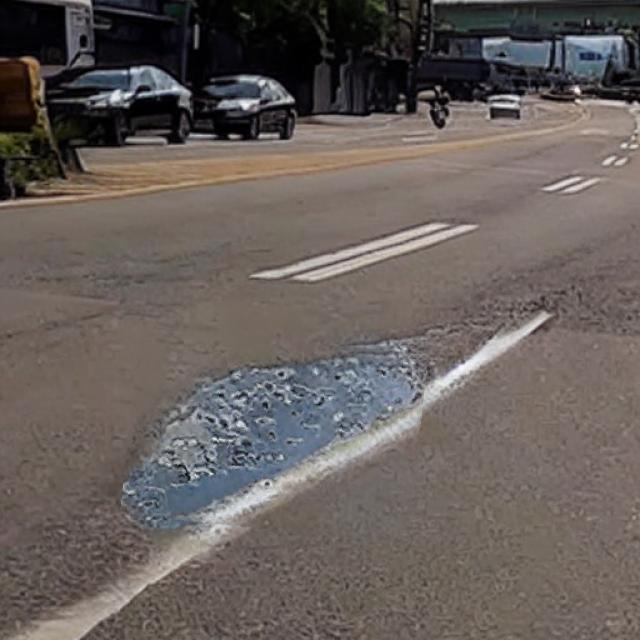puddle: (126, 334, 424, 539)
